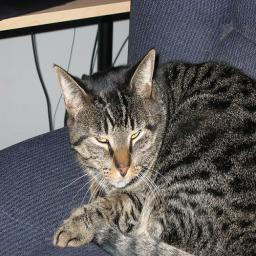catnose: (116, 165, 130, 178)
